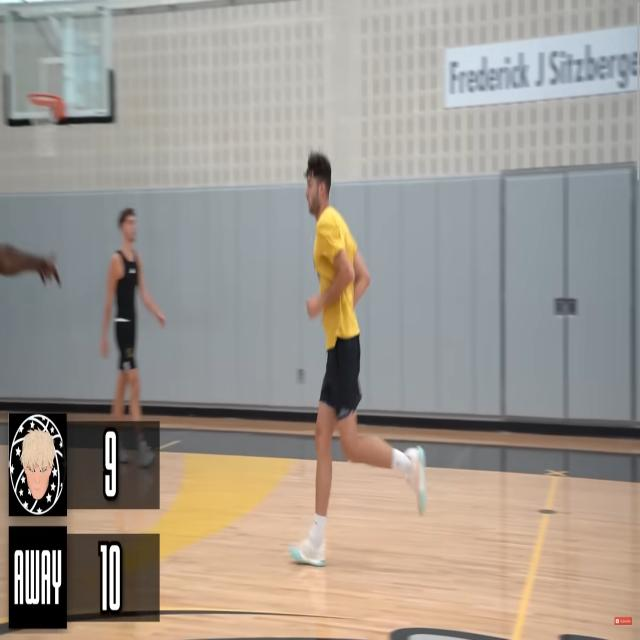Basketball Rim: (28, 90, 62, 162)
